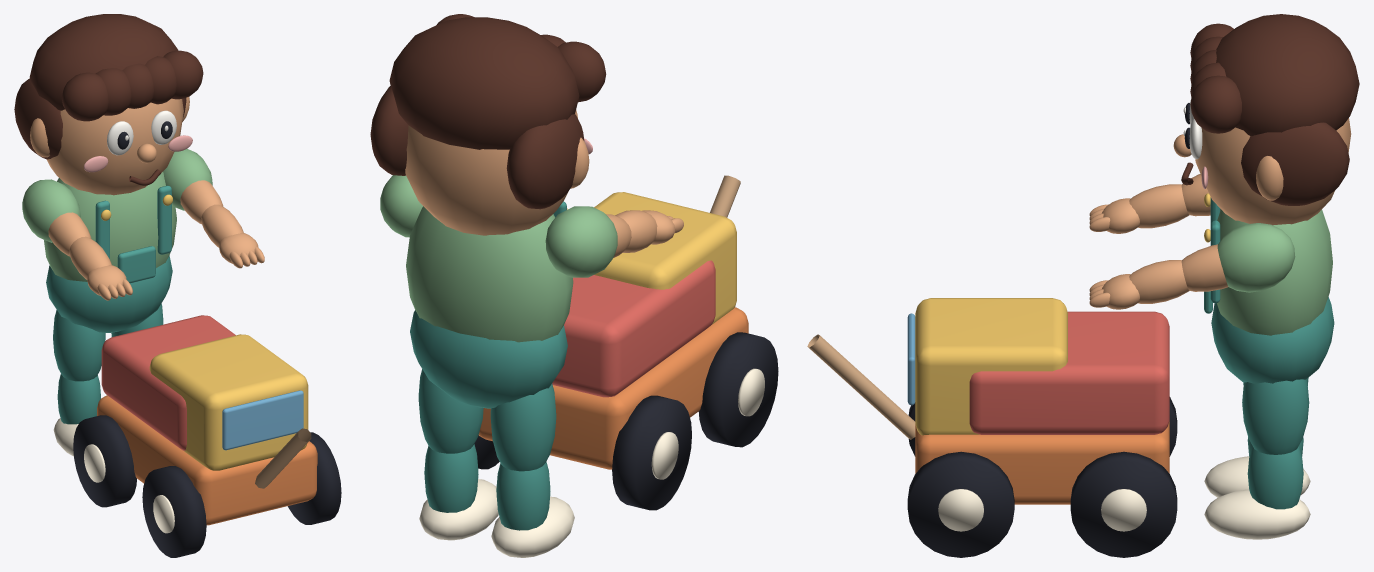
File: daddy-push.glb
3 views of the same model, side by side, from view 1: azimuth 30°, elevation 25°; view 2: azimuth 150°, elevation 25°; view 3: azimuth 270°, elevation 25° (orthographic). The views are drawn at different scales.
Parts seen in each view (by area): view 1: cabin, vehicle body, wagon cargo, hair cap, clay head, soft shirt, overalls, rubber wheel, rubber wheel.001, windshield, trouser leg, rubber wheel.002 (+26 smaller); view 2: hair cap, soft shirt, wagon cargo, vehicle body, clay head, overalls, cabin, rubber wheel.001, rubber wheel, bob hair, trouser leg, shirt sleeve (+16 smaller); view 3: wagon cargo, cabin, hair cap, vehicle body, rubber wheel.002, rubber wheel.003, soft shirt, bob hair.001, overalls, clay head, trouser leg.001, shirt sleeve.001 (+15 smaller).
Part boxes in pixels (x1,y1,x2,y2): cabin: (149,334,308,470); vehicle body: (97,395,317,525); wagon cargo: (101,315,235,450); hair cap: (29,14,178,110); clay head: (46,98,183,195); soft shirt: (44,172,176,281); overalls: (46,255,172,332); rubber wheel: (142,466,206,557); rubber wheel.001: (73,415,136,507); windshield: (222,390,303,450); trouser leg: (53,310,105,381); rubber wheel.002: (288,432,341,524); hair cap: (389,17,579,149); soft shirt: (406,206,573,342); wagon cargo: (552,260,715,397); vehicle body: (478,307,748,469); clay head: (405,109,577,235); overalls: (410,310,567,408); cabin: (594,192,736,324); rubber wheel.001: (612,395,691,510); rubber wheel: (698,332,778,447); bob hair: (506,114,584,209); trouser leg: (490,383,556,471); shirt sleeve: (545,206,617,277); wagon cargo: (969,311,1169,434); cabin: (915,298,1067,435); hair cap: (1216,14,1359,135); vehicle body: (915,421,1169,504); rubber wheel.002: (907,451,1014,557); rubber wheel.003: (1070,451,1177,557); soft shirt: (1217,209,1332,335); bob hair.001: (1241,122,1349,205); overalls: (1211,297,1334,383); clay head: (1195,118,1351,225); trouser leg.001: (1242,379,1309,454); shirt sleeve.001: (1217,223,1295,292).
Size of the model in its own units: 0.957 by 2.14 by 2.17.
